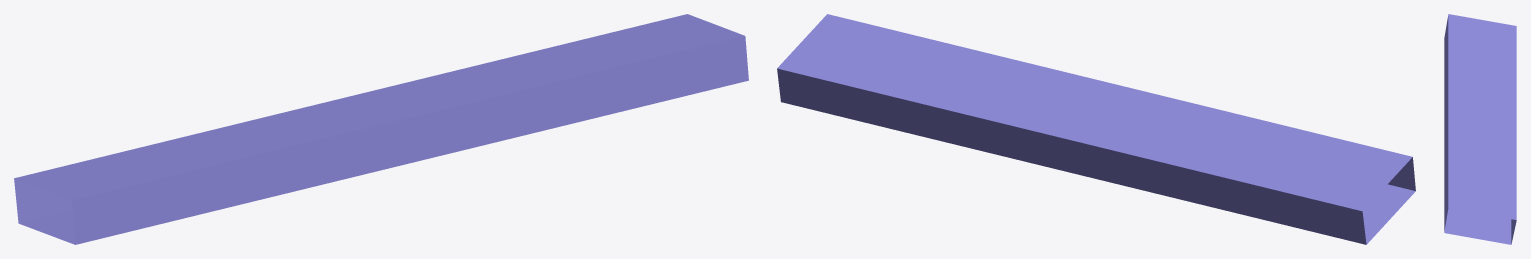
Rendered from Pinball_Screen_T.fbx.
The picture shows the model from 3 angles, left to right: view 1: azimuth 30°, elevation 25°; view 2: azimuth 150°, elevation 25°; view 3: azimuth 270°, elevation 25°; orthographic projection. The views are drawn at different scales.
Parts seen in each view (by area): view 1: Pinball_Screen_T.001; view 2: Pinball_Screen_T.001; view 3: Pinball_Screen_T.001.
Part boxes in pixels (x1,y1,x2,y2): Pinball_Screen_T.001: (14, 14, 748, 244); Pinball_Screen_T.001: (777, 14, 1415, 244); Pinball_Screen_T.001: (1444, 14, 1516, 244).
Bounding box in the file's own units: 660 × 58.35 × 104.
